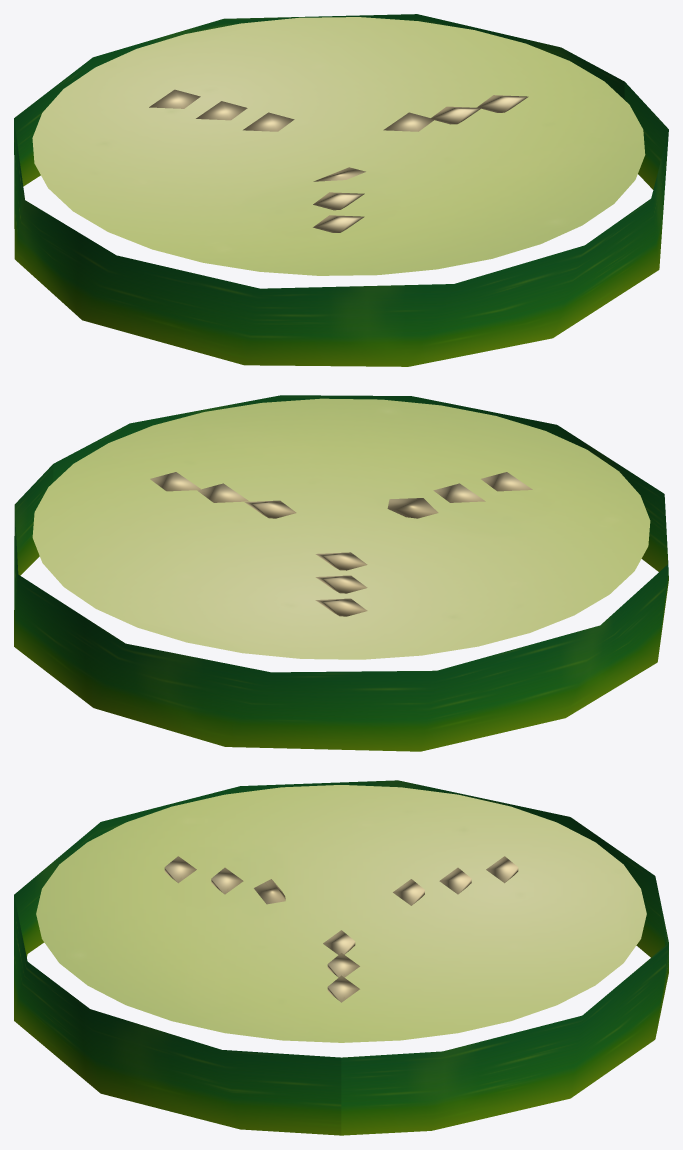
File: NP_Cucumber_Slice_LOD1.fbx
3 renders of one model, top to bottom at view 1: azimuth 30°, elevation 25°; view 2: azimuth 150°, elevation 25°; view 3: azimuth 270°, elevation 25°, orthographic.
Parts seen in each view (by area): view 1: NP_Cucumber_Slice.001; view 2: NP_Cucumber_Slice.001; view 3: NP_Cucumber_Slice.001.
Part boxes in pixels (x1=…): NP_Cucumber_Slice.001: x1=14, y1=14, x2=668, y2=366; NP_Cucumber_Slice.001: x1=14, y1=395, x2=668, y2=751; NP_Cucumber_Slice.001: x1=14, y1=780, x2=668, y2=1135.
Bounding box in the file's own units: 12.18 × 1.91 × 12.17.
